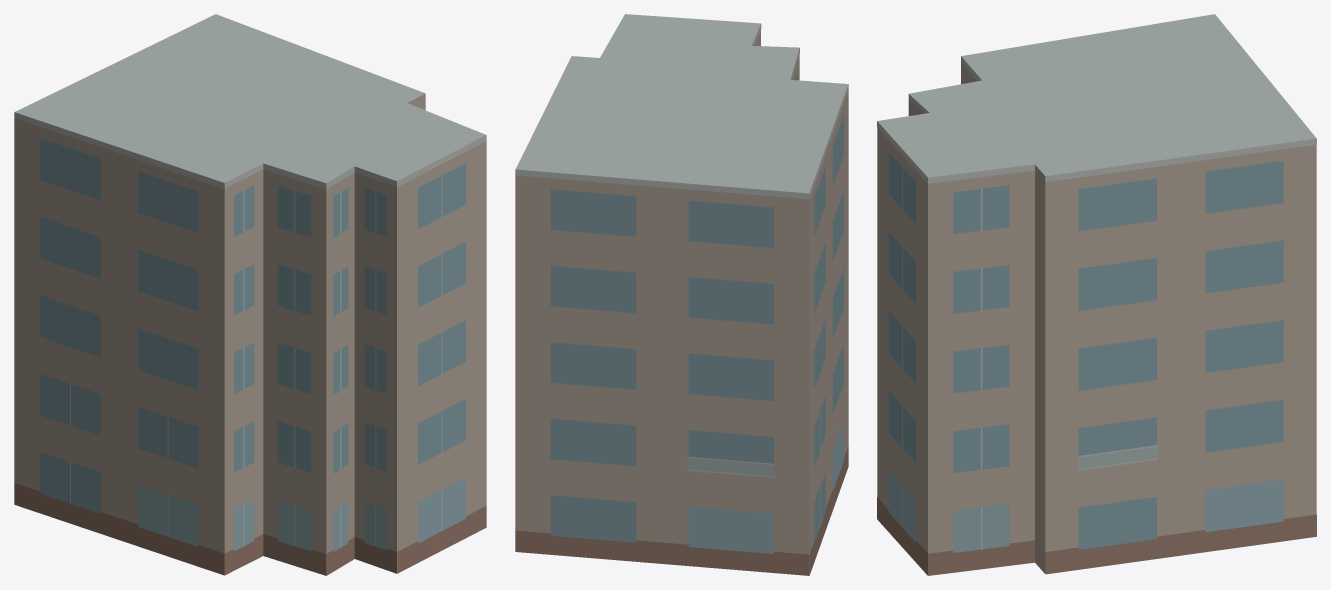
Rendered from survey-upis-33036271.glb.
The picture shows the model from 3 angles, left to right: view 1: azimuth 30°, elevation 25°; view 2: azimuth 150°, elevation 25°; view 3: azimuth 270°, elevation 25°; orthographic projection. The views are drawn at different scales.
Parts seen in each view (by area): view 1: survey-upis-33036271.tmp; view 2: survey-upis-33036271.tmp; view 3: survey-upis-33036271.tmp.
Part boxes in pixels (x1,y1,x2,y2): survey-upis-33036271.tmp: (14, 14, 486, 575); survey-upis-33036271.tmp: (515, 14, 848, 575); survey-upis-33036271.tmp: (877, 14, 1316, 575).
Size of the model in its own units: 13.99 by 15.85 by 15.87.
